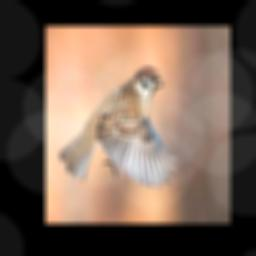Sparrow: (59, 67, 176, 187)
